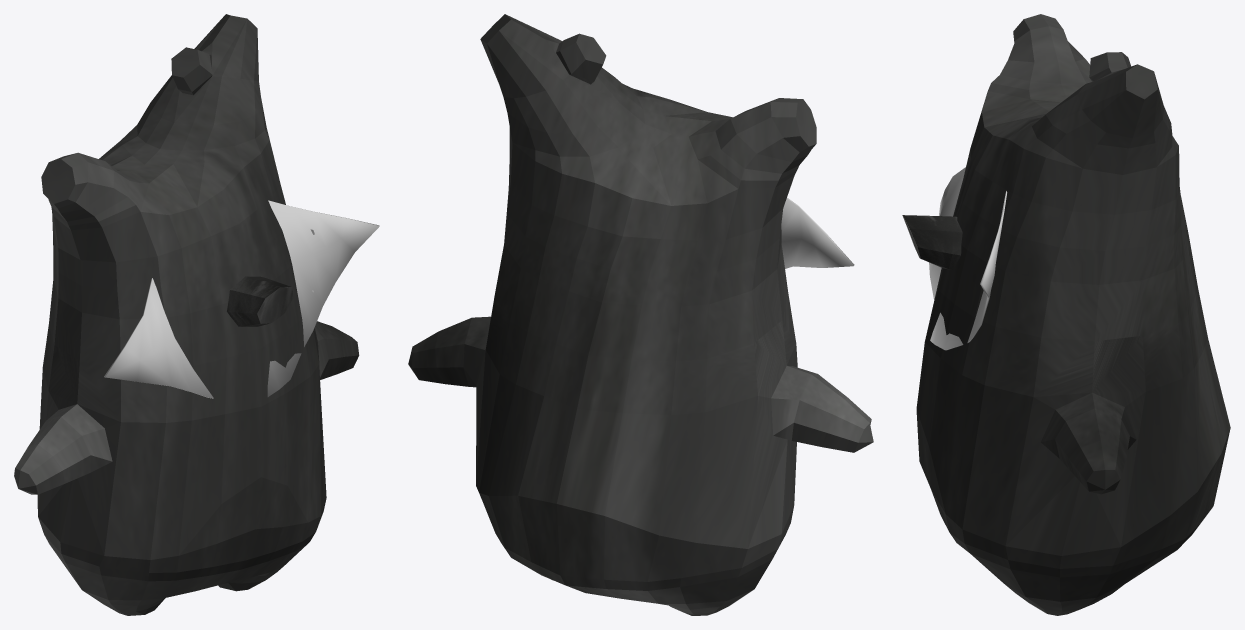
File: frame_0032.obj
3 renders of one model, left to right at view 1: azimuth 30°, elevation 25°; view 2: azimuth 150°, elevation 25°; view 3: azimuth 270°, elevation 25°, orthographic. The views are drawn at different scales.
Visible parts, largest first — view 1: korok, leaf, nose; view 2: korok, leaf; view 3: korok, leaf, nose.
Part boxes in pixels (<box>): korok: <box>14,14,359,615</box>; leaf: <box>104,200,379,398</box>; nose: <box>227,276,293,326</box>; korok: <box>408,14,873,615</box>; leaf: <box>781,197,854,268</box>; korok: <box>916,14,1230,615</box>; leaf: <box>929,167,1007,350</box>; nose: <box>902,215,962,269</box>.
Bounding box in the file's own units: 1.71 × 2.3 × 1.21.
